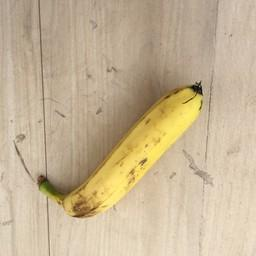Banana Ripe: (32, 71, 247, 240)
